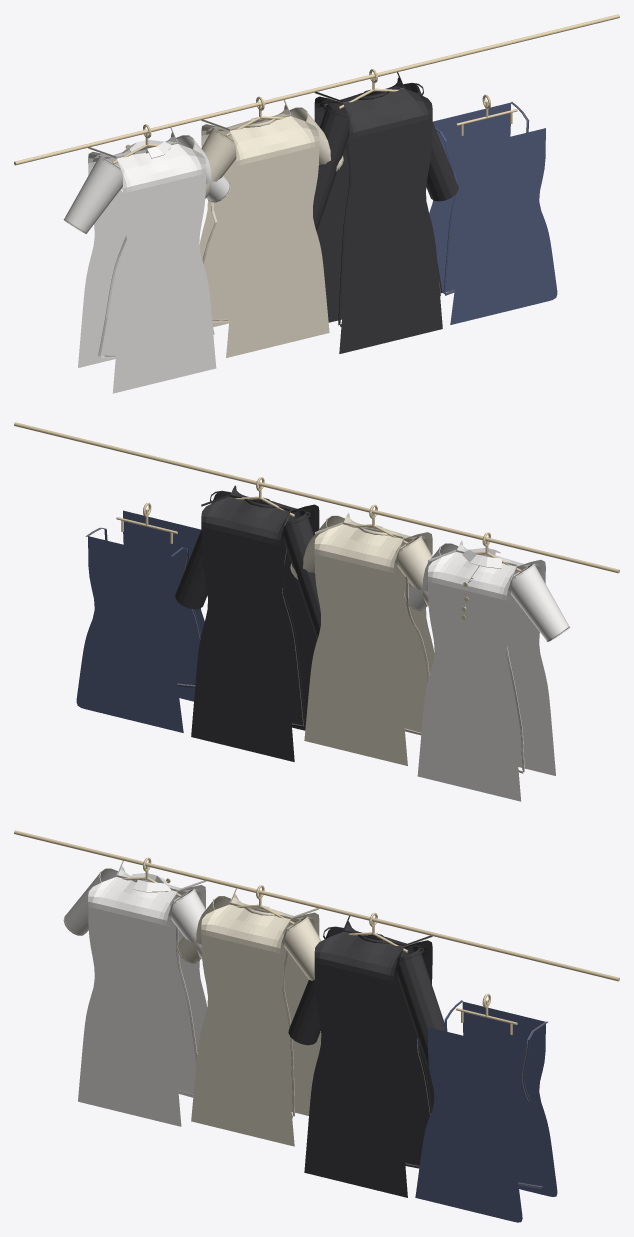
The picture shows the model from 3 angles, top to bottom: view 1: azimuth 30°, elevation 25°; view 2: azimuth 150°, elevation 25°; view 3: azimuth 330°, elevation 25°; orthographic projection.
Visible parts, largest first — view 1: pk_white, dress_black_long, dress_beige_sh, skirt_navy, Cylinder.031, Cone, Cylinder.008, Cylinder.010, Cone.002, Cone.001, Cone.003, sideL.002; view 2: pk_white, dress_black_long, dress_beige_sh, skirt_navy, Cylinder.031, Cone, Cylinder.008, Cylinder.010, Cone.002, Cone.001, Cone.003, Collar; view 3: dress_black_long, pk_white, skirt_navy, dress_beige_sh, Cylinder.031, Cylinder.010, Cylinder.008, Cone.003, Cone.001, Cone, Cone.002.
Boxes of the visible parts, x1,y1,x2,y2 form: pk_white: (78, 132, 216, 393); dress_black_long: (314, 77, 442, 353); dress_beige_sh: (199, 105, 329, 357); skirt_navy: (429, 102, 557, 324); Cylinder.031: (14, 14, 619, 165); Cone: (64, 157, 122, 232); Cylinder.008: (313, 102, 349, 231); Cylinder.010: (403, 83, 458, 201); Cone.002: (201, 130, 236, 198); Cone.001: (177, 136, 229, 201); Cone.003: (290, 109, 342, 169); sideL.002: (338, 139, 351, 325); pk_white: (417, 540, 555, 801); dress_black_long: (191, 485, 319, 761); dress_beige_sh: (304, 513, 434, 765); skirt_navy: (76, 510, 204, 732); Cylinder.031: (14, 422, 619, 573); Cone: (511, 565, 569, 640); Cylinder.008: (284, 510, 320, 639); Cylinder.010: (175, 491, 230, 609); Cone.002: (397, 538, 432, 606); Cone.001: (404, 544, 457, 609); Cone.003: (291, 517, 344, 577); Collar: (462, 548, 501, 568); dress_black_long: (304, 921, 434, 1197); pk_white: (78, 866, 207, 1126); skirt_navy: (415, 1001, 557, 1222); dress_beige_sh: (191, 893, 321, 1146); Cylinder.031: (14, 830, 619, 981); Cylinder.010: (397, 946, 444, 1074); Cylinder.008: (288, 927, 343, 1045); Cone.003: (284, 918, 321, 980); Cone.001: (171, 890, 205, 959); Cone: (64, 869, 117, 934); Cone.002: (178, 897, 230, 962).
Bounding box in the file's own units: 3.2 × 1.31 × 0.3475.
